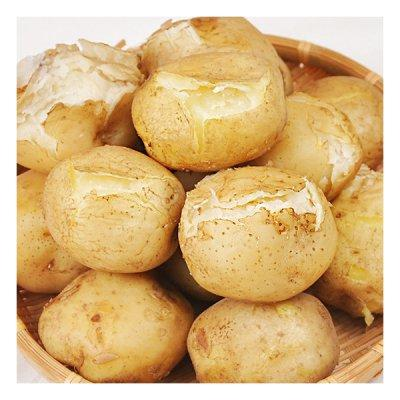potato: (120, 108, 211, 184), (82, 39, 182, 106), (30, 94, 113, 167)
